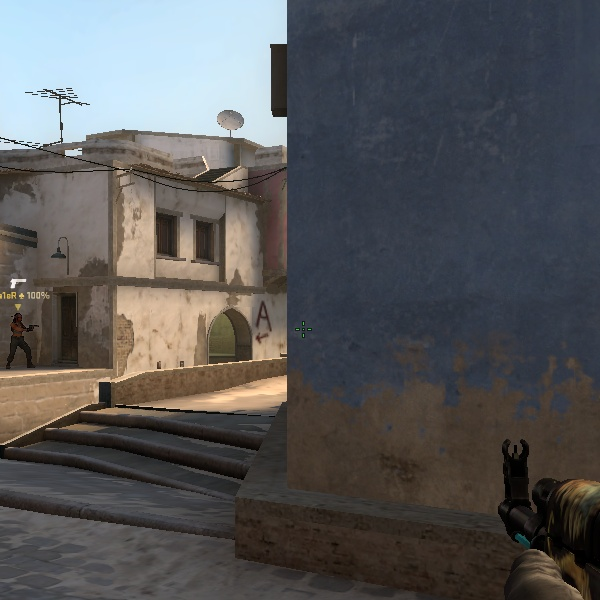t_body: (3, 308, 37, 371)
t_head: (10, 310, 26, 326)
